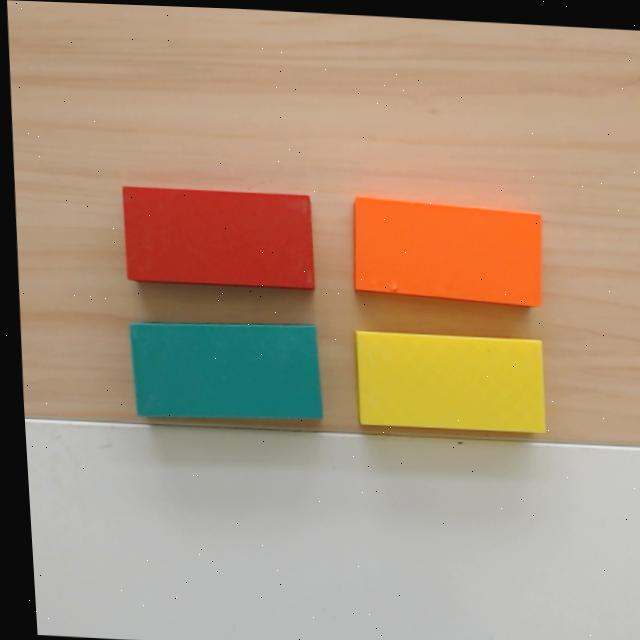Balok-Hijau-1005025: (127, 321, 323, 418)
Balok-Jingga-1005025: (345, 195, 548, 307)
Balok-Kuning-1005025: (349, 328, 549, 432)
Balok-Merah-1005025: (117, 185, 318, 289)
